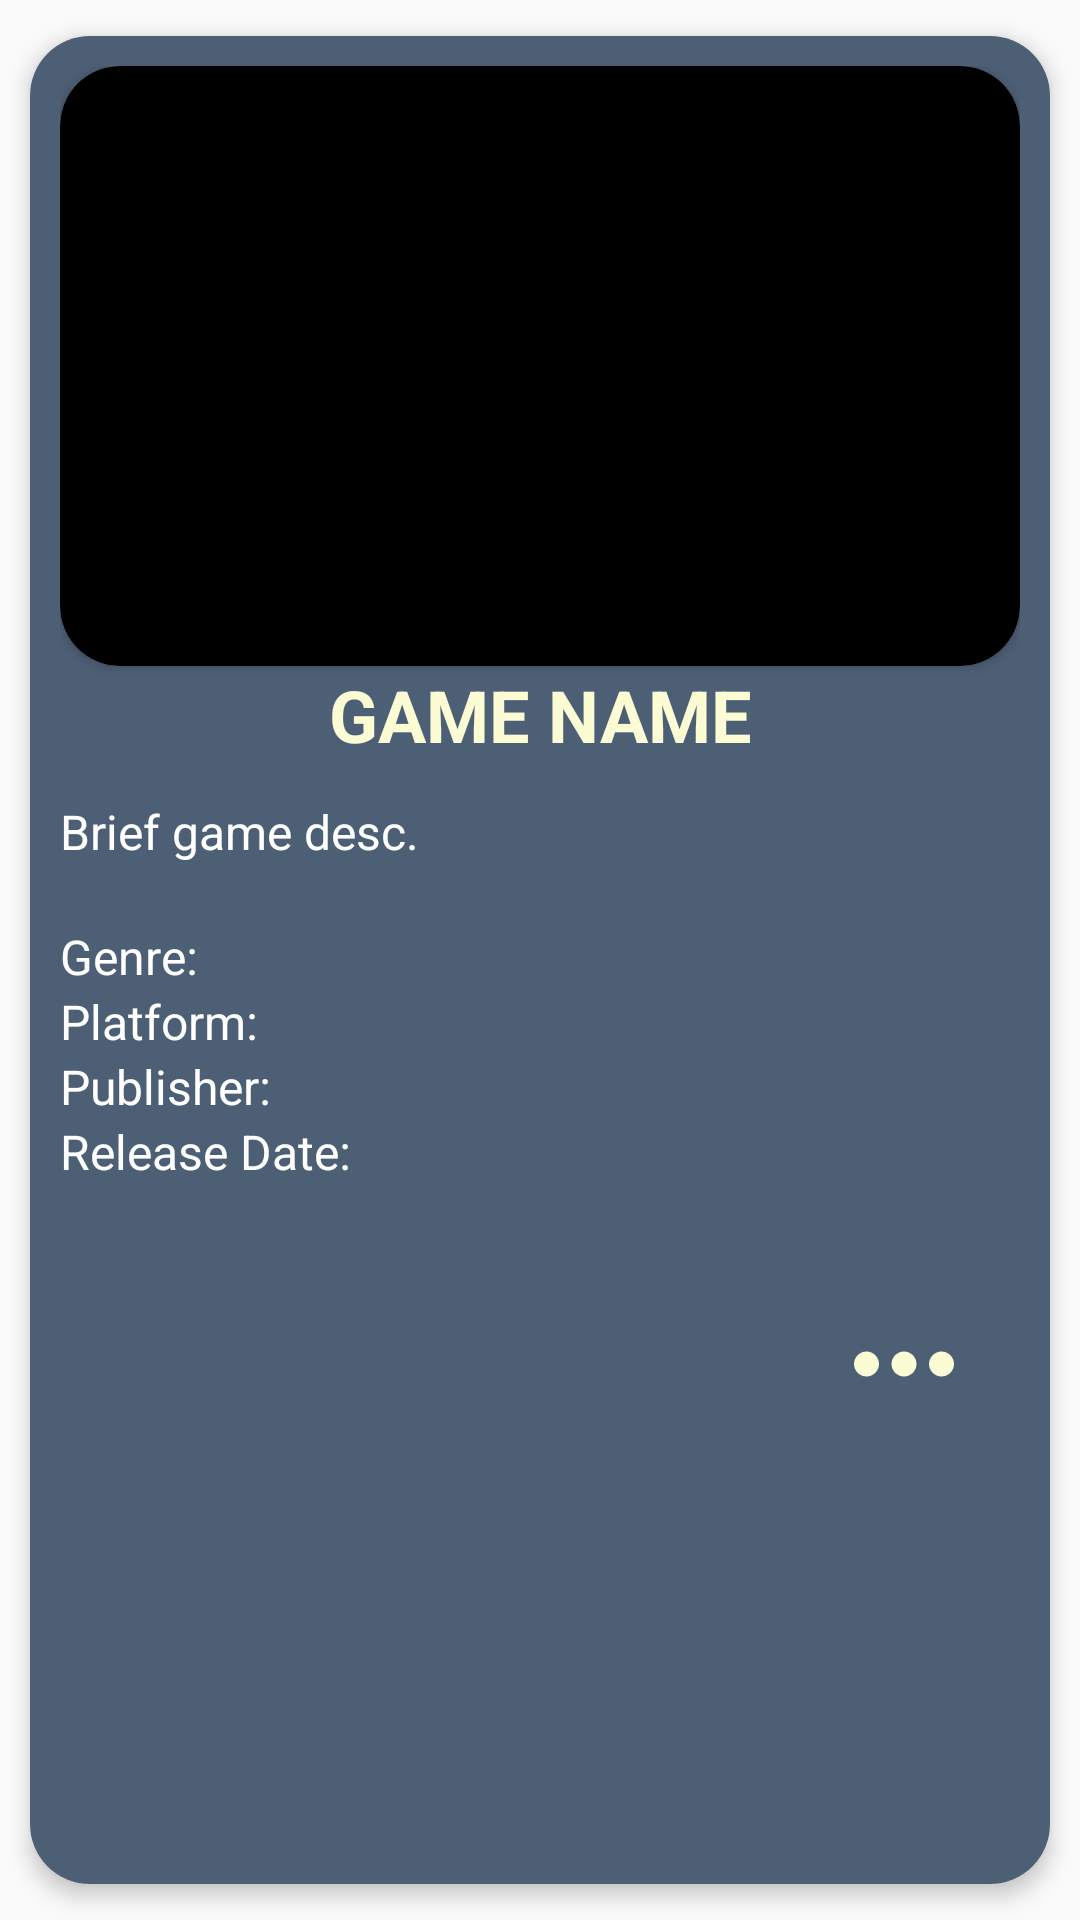

Named icons in this screenshot (1080px×1920px) and their centers, [x,y]:
more horiz: [904,1364]
